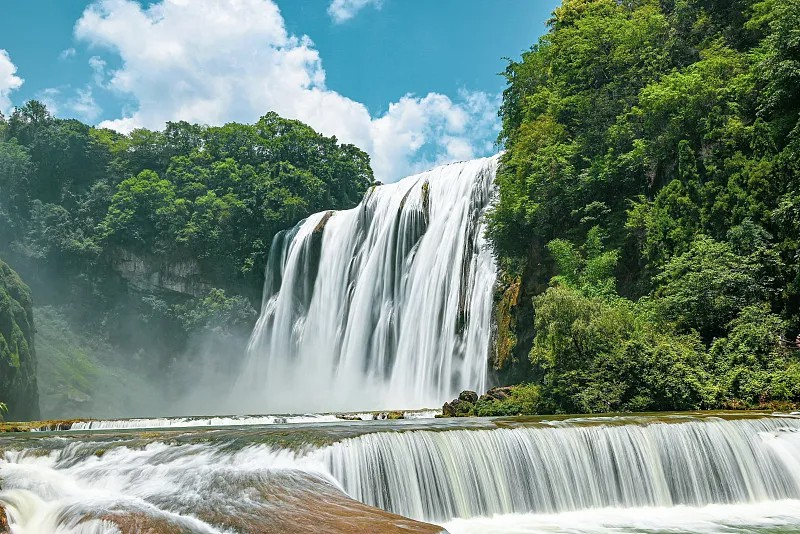Huangguoshu: (245, 149, 499, 412)
